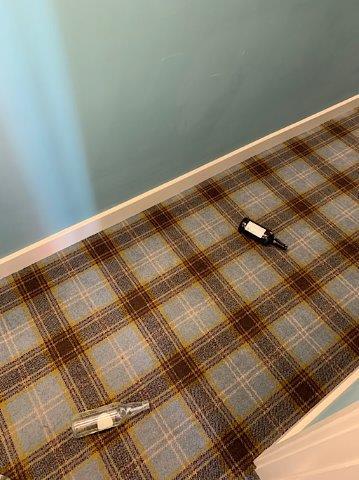botolkaca: (71, 401, 149, 437), (239, 218, 288, 250)
